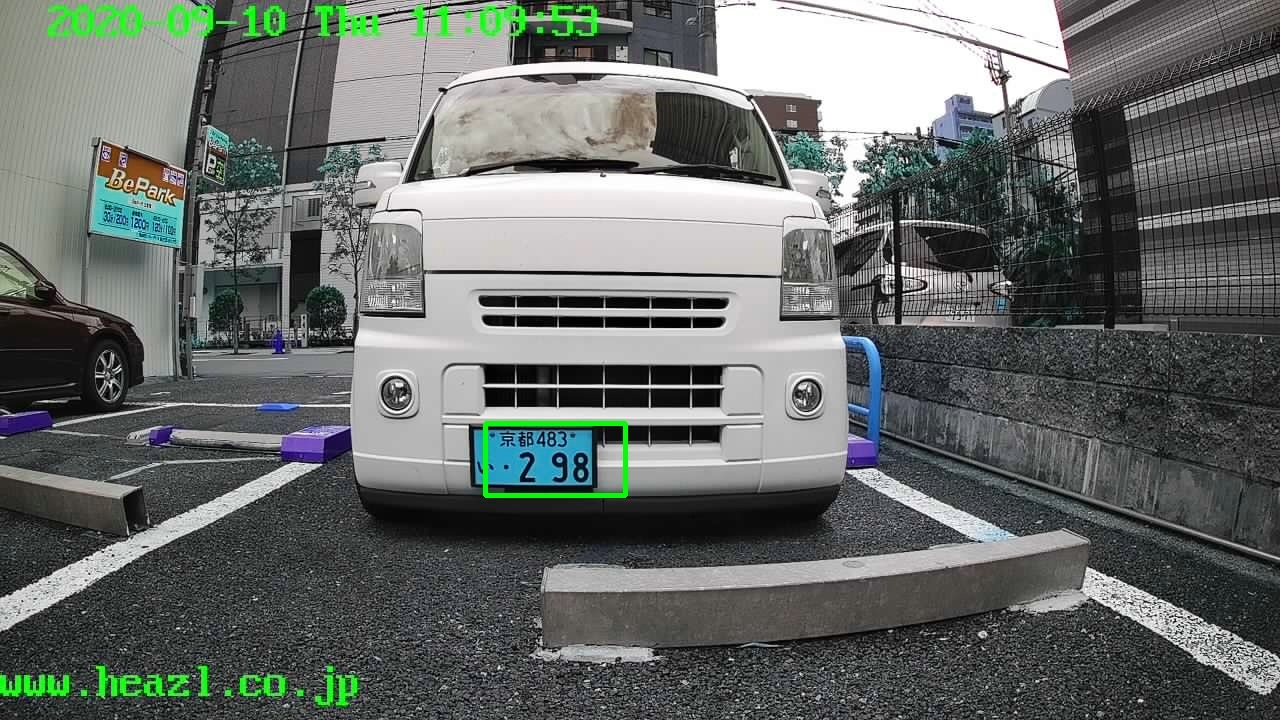number_plate: (469, 421, 605, 491)
